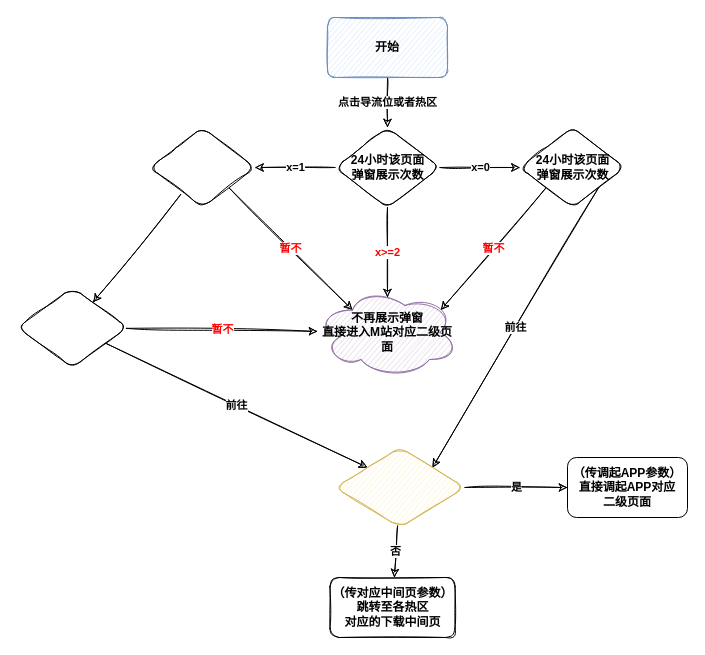
Some shapes in this 705 by 655 pixel diagram are drawn without their labels. The centre of each missing label's shape, as x and y in pixels:
"上一次的选择" goes at (202,167).
"展示弹窗" goes at (72,327).
"是否安装有驾APP" goes at (399,487).
